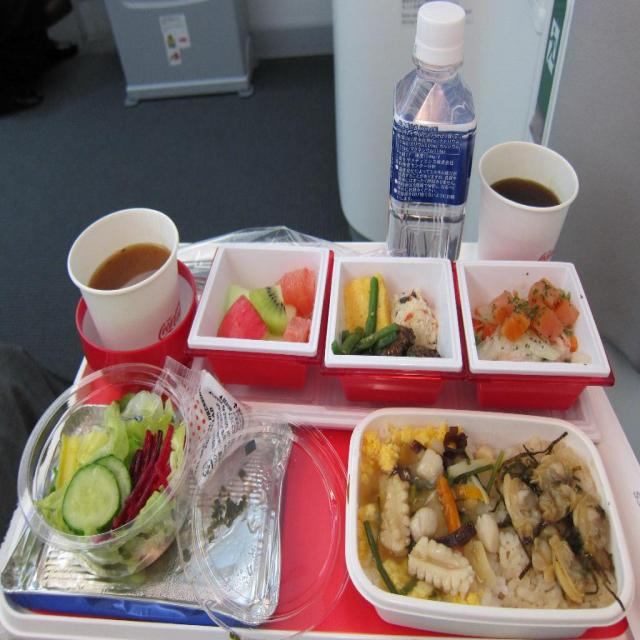Coffee: (484, 125, 586, 261)
Tea: (86, 247, 170, 289), (490, 179, 562, 210)
